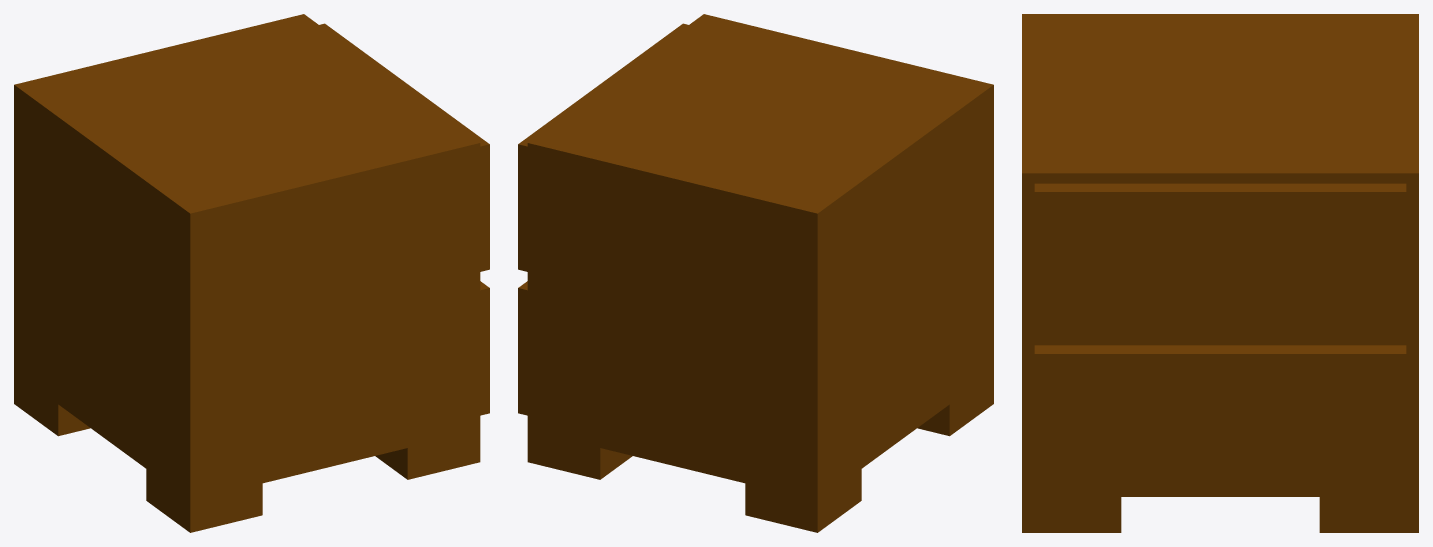
File: shelf.glb
3 views of the same model, side by side, from view 1: azimuth 30°, elevation 25°; view 2: azimuth 150°, elevation 25°; view 3: azimuth 270°, elevation 25° (orthographic). The views are drawn at different scales.
Parts seen in each view (by area): view 1: shelf; view 2: shelf; view 3: shelf.
Boxes of the visible parts, <box> form: shelf: <box>14,14,489,532</box>; shelf: <box>518,14,993,532</box>; shelf: <box>1022,14,1418,532</box>.
Size of the model in its own units: 1 by 1 by 1.
